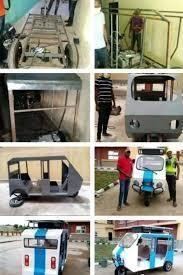keke: (110, 220, 183, 274)
